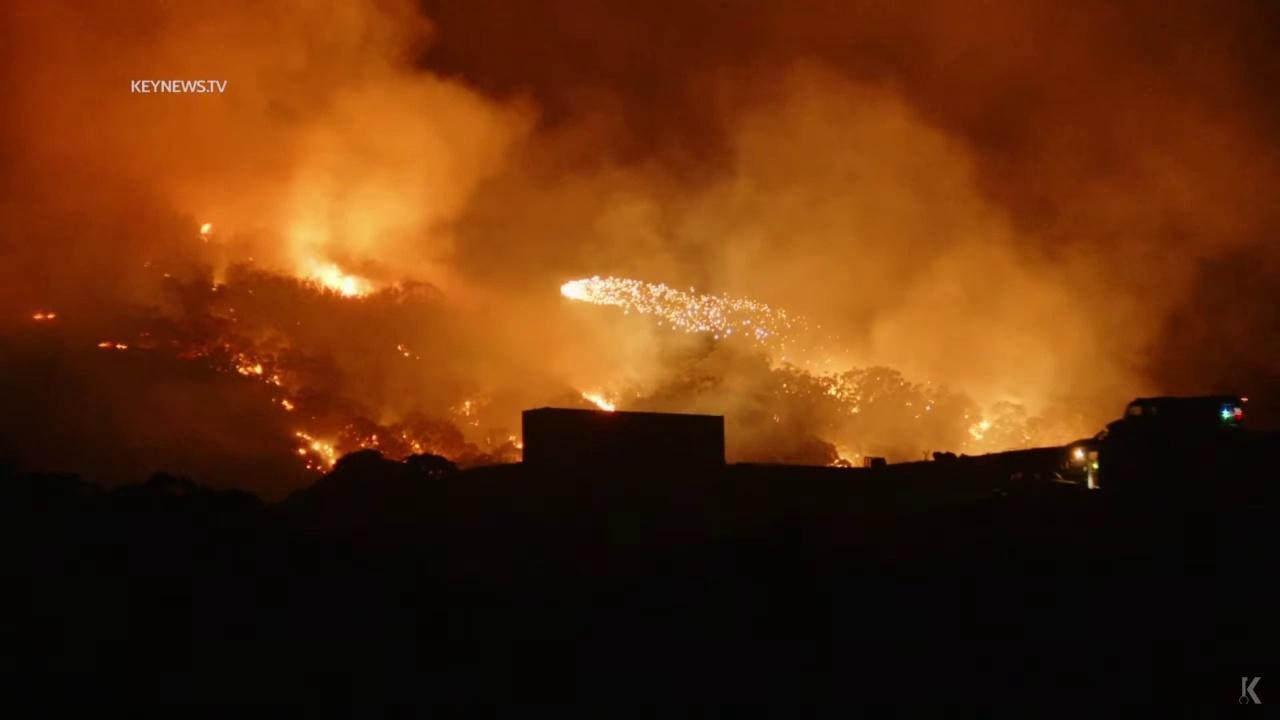fire: (306, 259, 374, 303), (291, 429, 337, 476), (579, 390, 618, 414), (965, 419, 993, 442), (234, 358, 264, 377), (198, 217, 214, 243), (357, 432, 379, 450), (507, 432, 525, 450), (408, 439, 424, 458), (396, 340, 412, 359), (461, 400, 474, 418), (278, 399, 295, 412), (96, 340, 113, 350), (114, 343, 130, 352), (32, 311, 44, 322), (46, 311, 57, 321)
smoke: (0, 0, 1280, 514)
